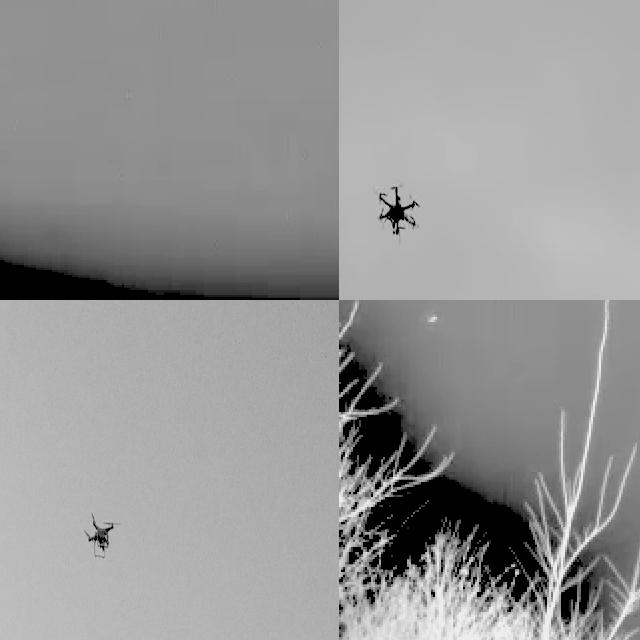0: (421, 307, 447, 339)
drone: (373, 180, 422, 246), (82, 507, 122, 562)
